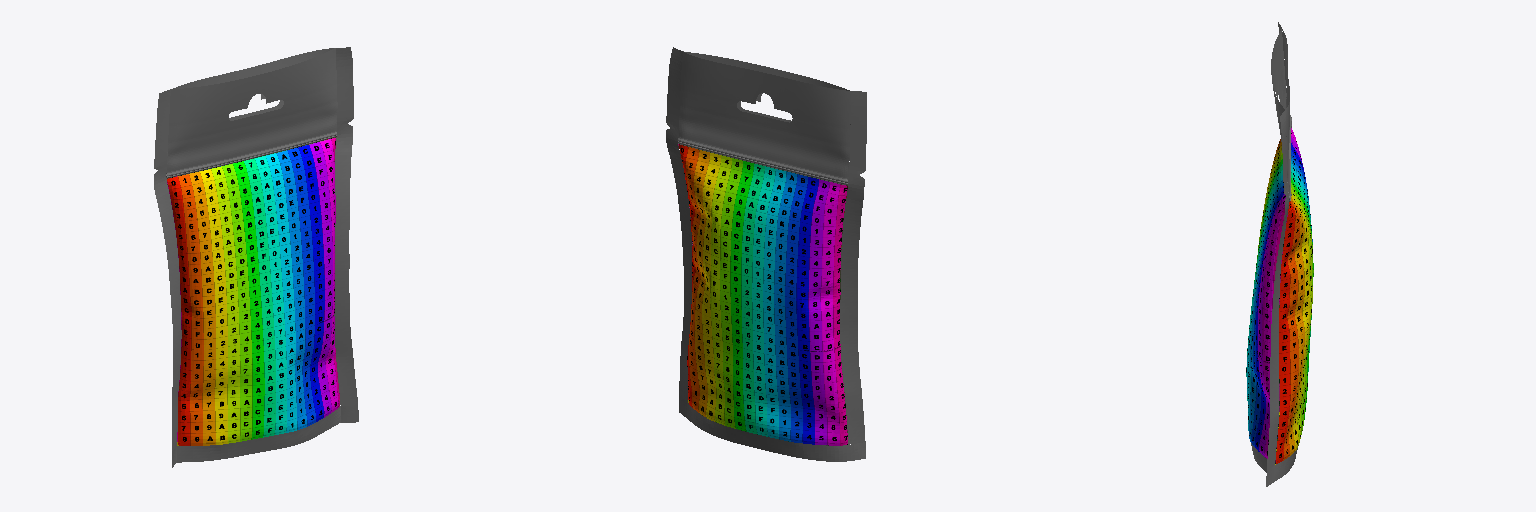
3 views of the same model, side by side, from view 1: azimuth 30°, elevation 25°; view 2: azimuth 150°, elevation 25°; view 3: azimuth 270°, elevation 25° (orthographic).
Parts seen in each view (by area): view 1: Object010; view 2: Object010; view 3: Object010.
Boxes of the visible parts, <box> form: Object010: <box>154,47,358,467</box>; Object010: <box>666,47,866,461</box>; Object010: <box>1246,22,1313,486</box>.
Bounding box in the file's own units: 30.48 × 54.64 × 8.88.
3 materials, 1 textured.